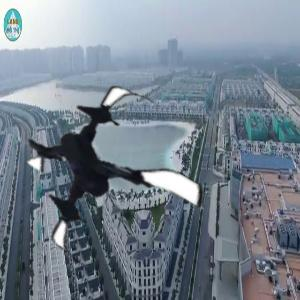drone: (17, 83, 208, 274)
